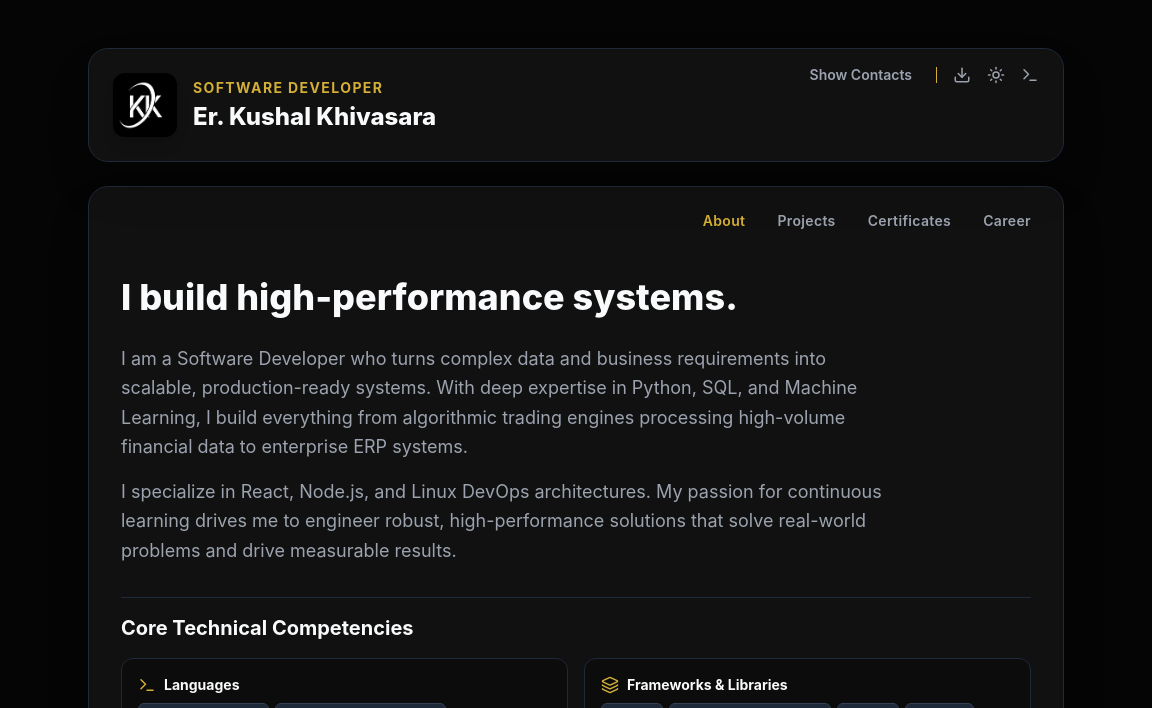
Test: StandardLayout › toggles contact links drawer
Click the button "Show Contacts" at (861, 75), box [794,57,928,93]
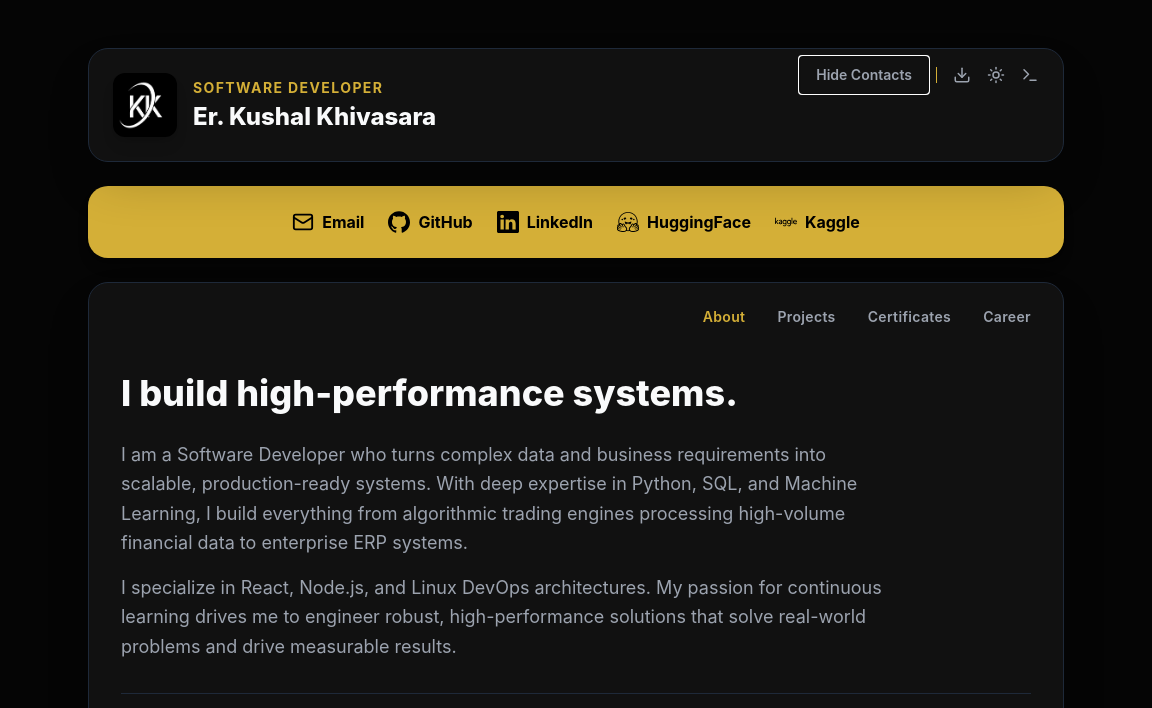
Expected: the button "Hide Contacts" is shown, [800,57,928,93]
Expected: the link "Email" is shown, [292,210,364,234]
Expected: the link "GitHub" is shown, [388,210,473,234]
